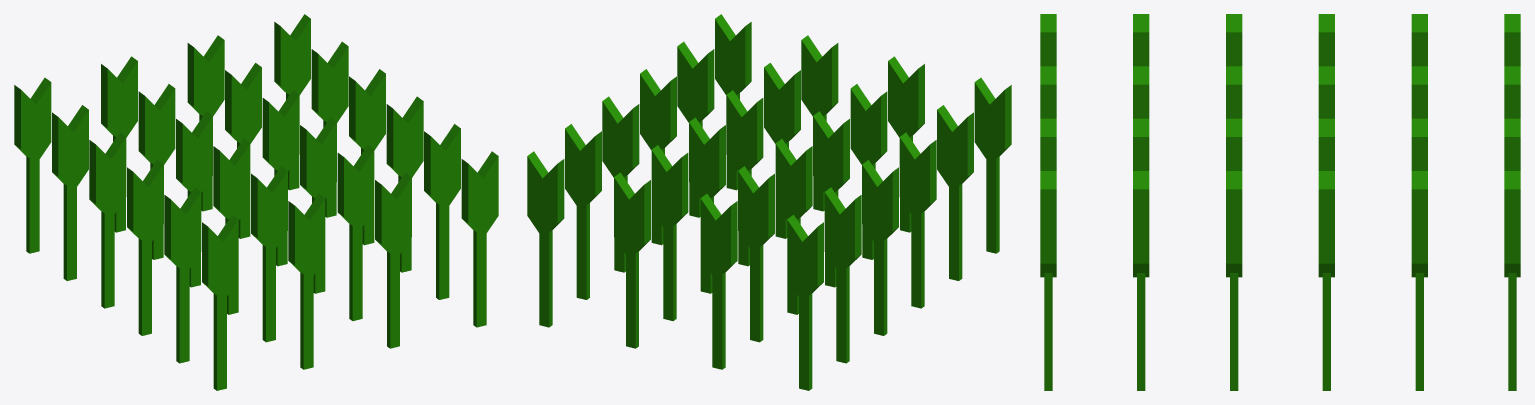
Rendered from Wheat_Green (4).fbx.
3 renders of one model, left to right at view 1: azimuth 30°, elevation 25°; view 2: azimuth 150°, elevation 25°; view 3: azimuth 270°, elevation 25°, orthographic. The views are drawn at different scales.
Parts seen in each view (by area): view 1: WheatFieldWheats; view 2: WheatFieldWheats; view 3: WheatFieldWheats.
Boxes of the visible parts, left/top/right/bottom form: WheatFieldWheats: left=14, top=14, right=498, bottom=390; WheatFieldWheats: left=527, top=14, right=1011, bottom=390; WheatFieldWheats: left=1040, top=14, right=1520, bottom=390.
Size of the model in its own units: 134 by 74.11 by 155.
